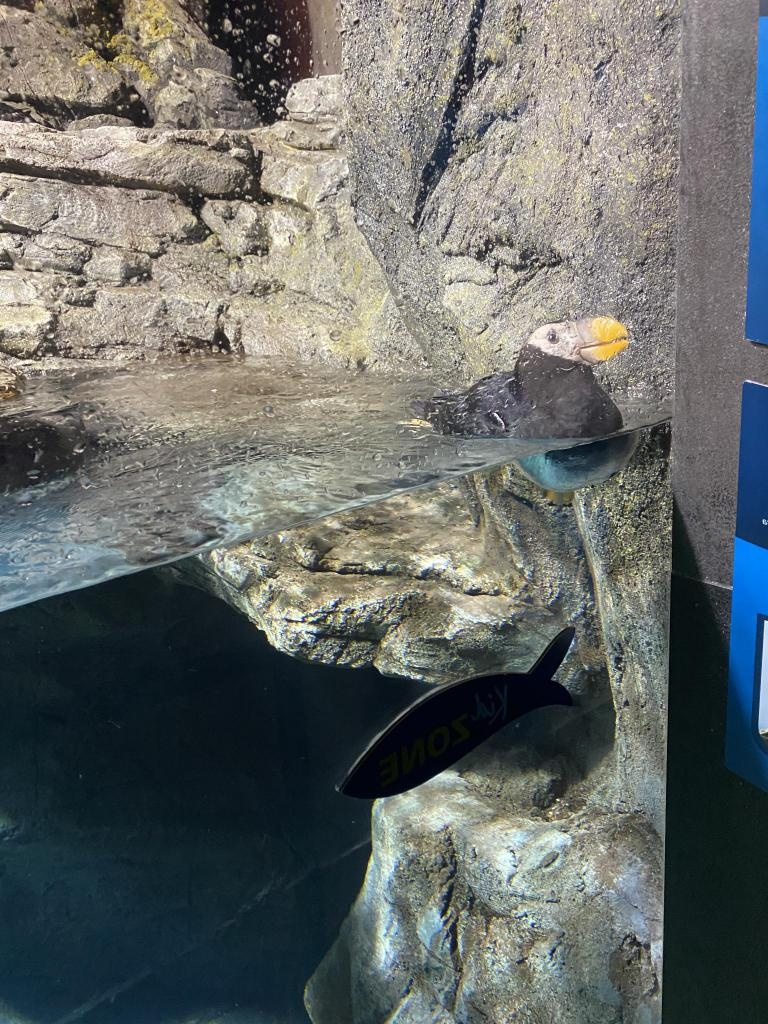puffin: (412, 314, 632, 490)
